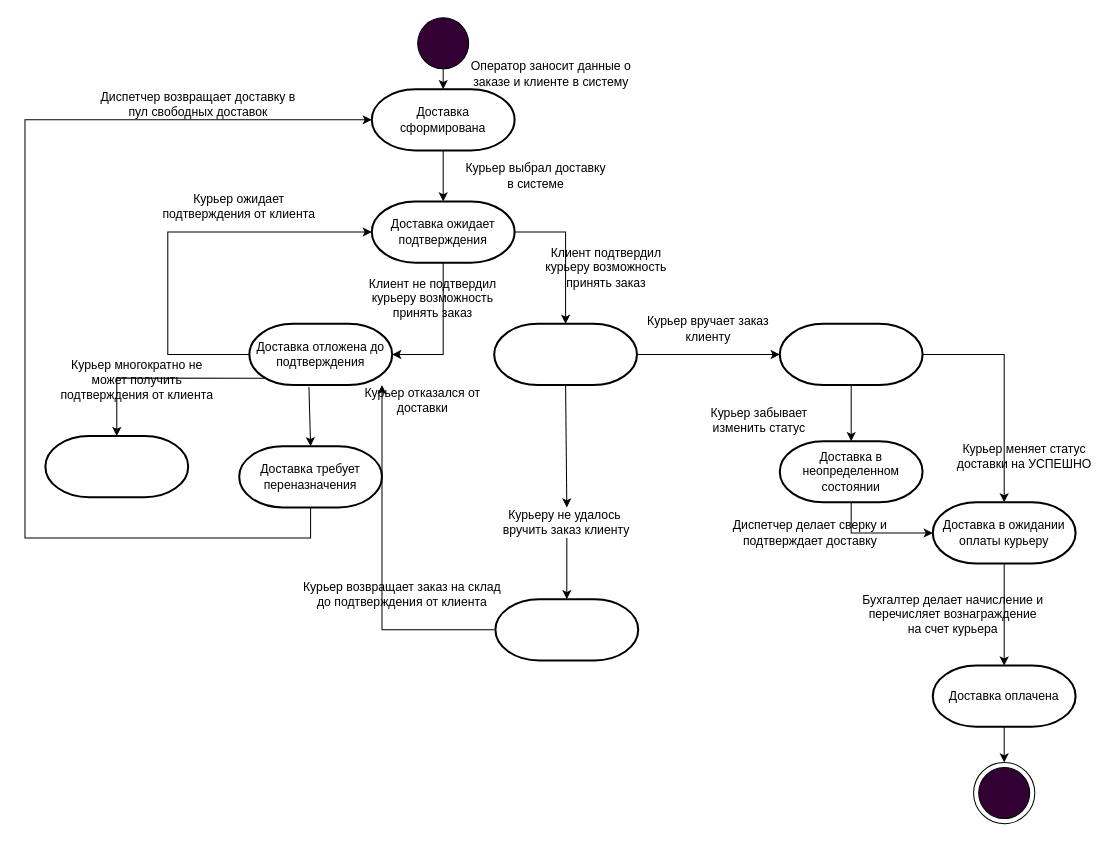
This 1114x842 diagram has some shape labels left out. The centre of each missing label's shape, as x and y in pixels:
"Доставка не выполнена успешно" goes at (x=566, y=629).
"Доставка отменена" goes at (x=116, y=466).
"Доставка подтверждена" goes at (x=565, y=354).
"Доставка успешно выполнена" goes at (x=850, y=354).
